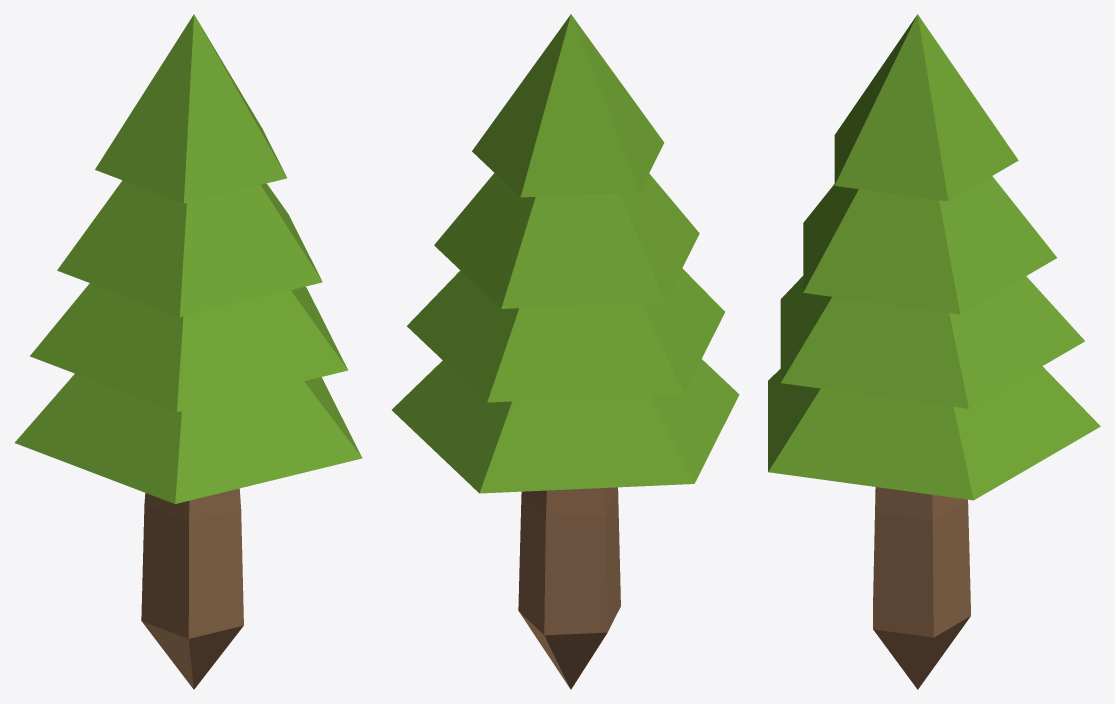
3 renders of one model, left to right at view 1: azimuth 30°, elevation 25°; view 2: azimuth 150°, elevation 25°; view 3: azimuth 270°, elevation 25°, orthographic.
Visible parts, largest first — view 1: Cylinder; view 2: Cylinder; view 3: Cylinder.
Boxes of the visible parts, x1,y1,x2,y2 form: Cylinder: [14, 14, 362, 689]; Cylinder: [392, 14, 739, 689]; Cylinder: [768, 14, 1100, 689].
Size of the model in its own units: 1.03 by 0.9811 by 2.2.
